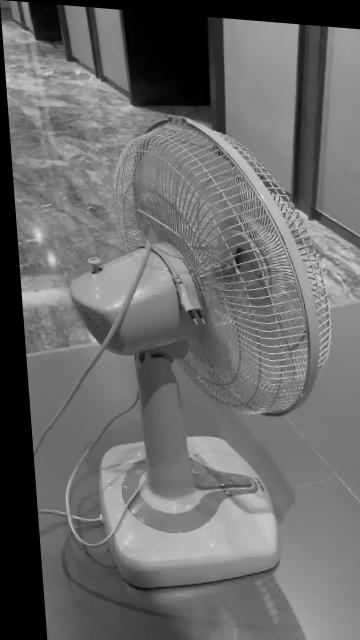Fan: (66, 114, 327, 589)
